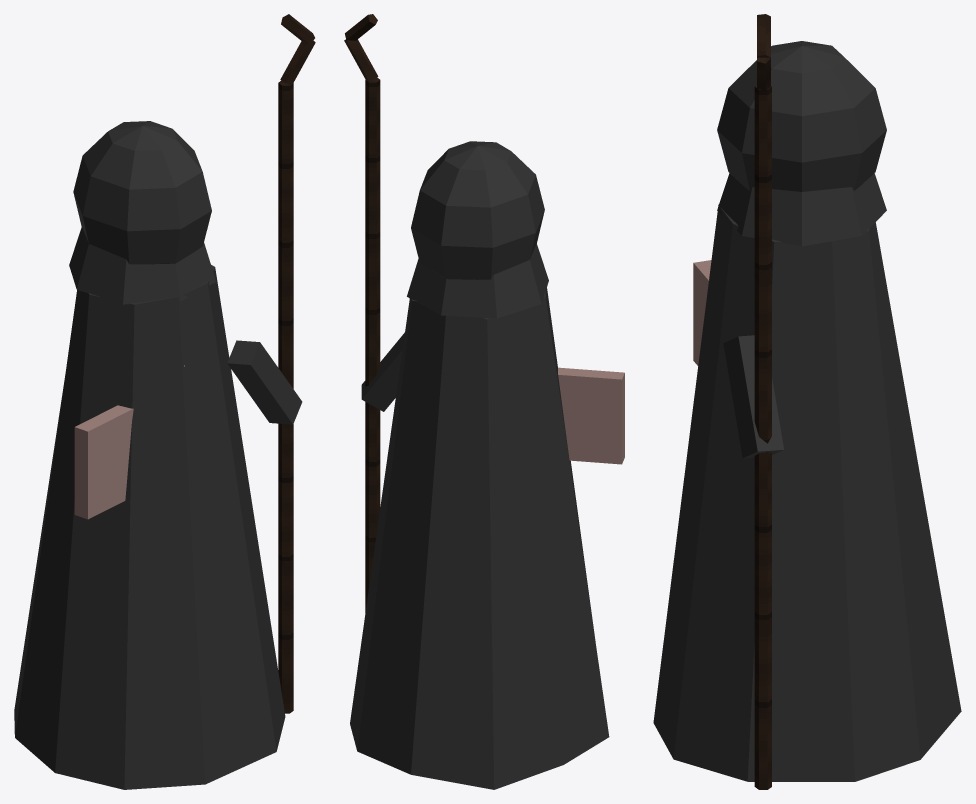
Rendered from elder_scholar.glb.
The picture shows the model from 3 angles, left to right: view 1: azimuth 30°, elevation 25°; view 2: azimuth 150°, elevation 25°; view 3: azimuth 270°, elevation 25°; orthographic projection. The views are drawn at different scales.
Parts seen in each view (by area): view 1: elder_scholar; view 2: elder_scholar; view 3: elder_scholar.
Boxes of the visible parts, x1,y1,x2,y2 form: elder_scholar: (14,14,315,789); elder_scholar: (344,14,624,789); elder_scholar: (653,14,961,789).
Size of what is drawn, in the model's own units: 0.8885 by 2.23 by 0.7975.
5 materials, 2 textured.
